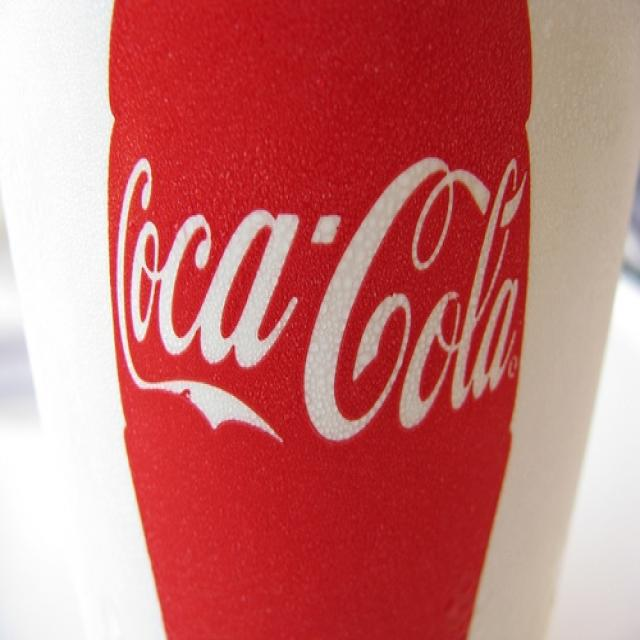cocacola: (106, 141, 533, 445)
